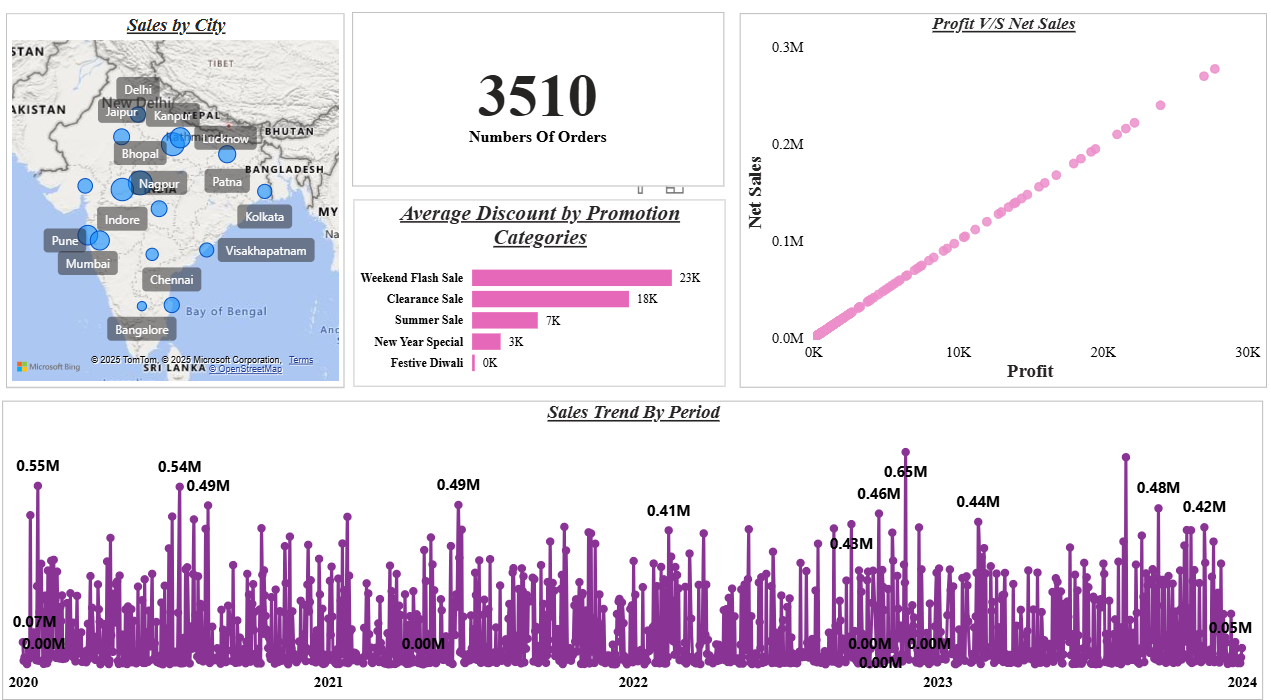

Layout of this report page (visuals, bound fields, positions):
{"tool":"powerbi","page":{"name":"Overview","canvas":[1280,720],"ordinal":0},"visuals":[{"type":"lineChart","title":"Sales Trend By Period","fields":{"Y":["Sum(Fact Table.Net Sales)"],"Category":["Fact Table.Date (dd/mm/yyyy).Variation.Date Hierarchy.Year"]},"box":[6.9,408.9,1261.1,299.1],"z":0},{"type":"scatterChart","title":"Profit V/S Net Sales","fields":{"X":["Fact Table.Profit"],"Y":["Fact Table.Net Sales"]},"box":[743.5,20.8,527,374.2],"z":1000},{"type":"barChart","title":"Average Discount by Promotion Categories","fields":{"Y":["Avg(Fact Table.Discount)"],"Category":["Dim Promotion.Promotion Name"]},"box":[357.1,207.9,371.7,187.1],"z":2000},{"type":"map","title":"Sales by City","fields":{"Category":["Dim Customers.City"],"Size":["Sum(Fact Table.Net Sales)"]},"box":[9.8,20.8,338.7,374.2],"z":3000},{"type":"card","fields":{"Values":["Count(Fact Table.Order_Id)"]},"box":[356.8,20.6,371.9,174.3],"z":4000}]}

Visuals, with their boxes in screenshot pixels (x1, y1, x2, y2), scaled from the page's 1280x720 canvas onto the 1271x700 screenshot:
"Sales Trend By Period" lineChart: <bbox>7, 398, 1259, 688</bbox>
"Profit V/S Net Sales" scatterChart: <bbox>738, 20, 1262, 384</bbox>
"Average Discount by Promotion Categories" barChart: <bbox>355, 202, 724, 384</bbox>
"Sales by City" map: <bbox>10, 20, 346, 384</bbox>
card - Count(Fact Table.Order_Id): <bbox>354, 20, 724, 189</bbox>
